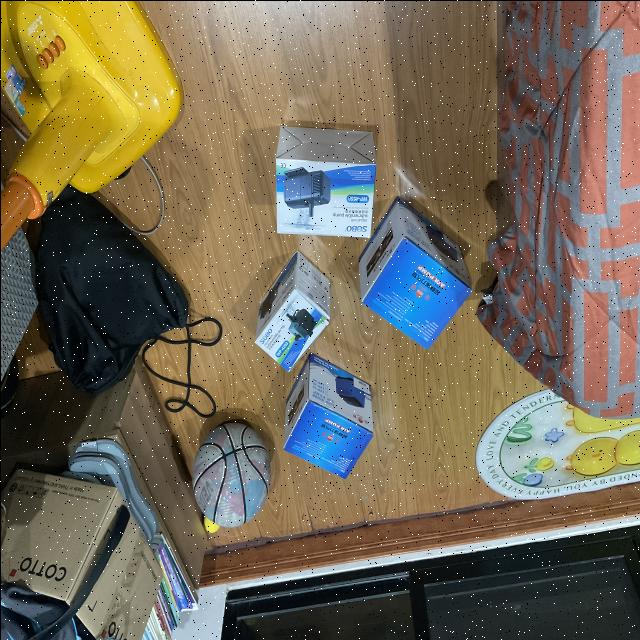SOBO_WP_4200: (256, 95, 376, 241), (235, 250, 334, 368)
YAMANO_LPP_20: (352, 195, 476, 356), (268, 351, 384, 493)
